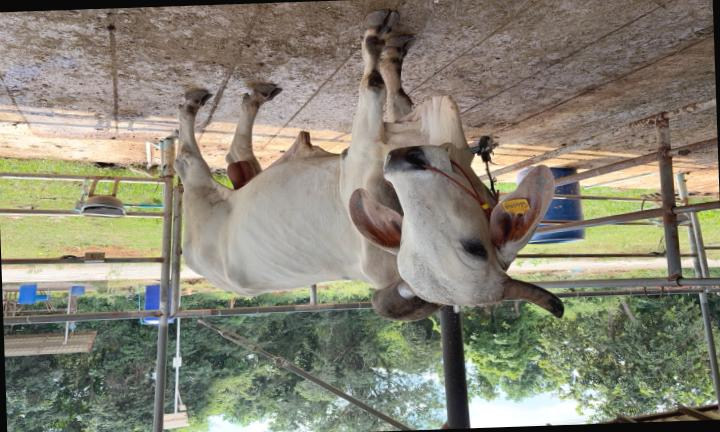Brahman: (175, 11, 564, 321)
